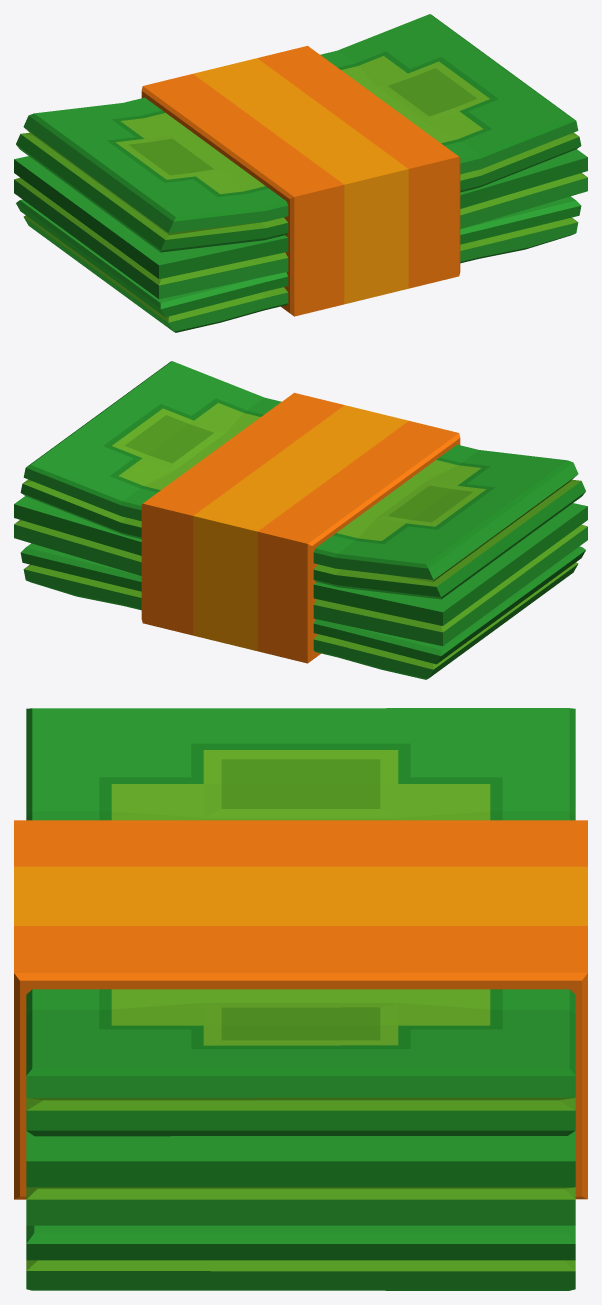
File: money.fbx
3 renders of one model, top to bottom at view 1: azimuth 30°, elevation 25°; view 2: azimuth 150°, elevation 25°; view 3: azimuth 270°, elevation 25°, orthographic. The views are drawn at different scales.
Visible parts, largest first — view 1: money; view 2: money; view 3: money.
Boxes of the visible parts, bbox=[...] form: money: bbox=[14, 14, 587, 332]; money: bbox=[14, 361, 587, 679]; money: bbox=[14, 708, 587, 1290].
Size of the model in its own units: 34.16 by 9.62 by 20.9.
